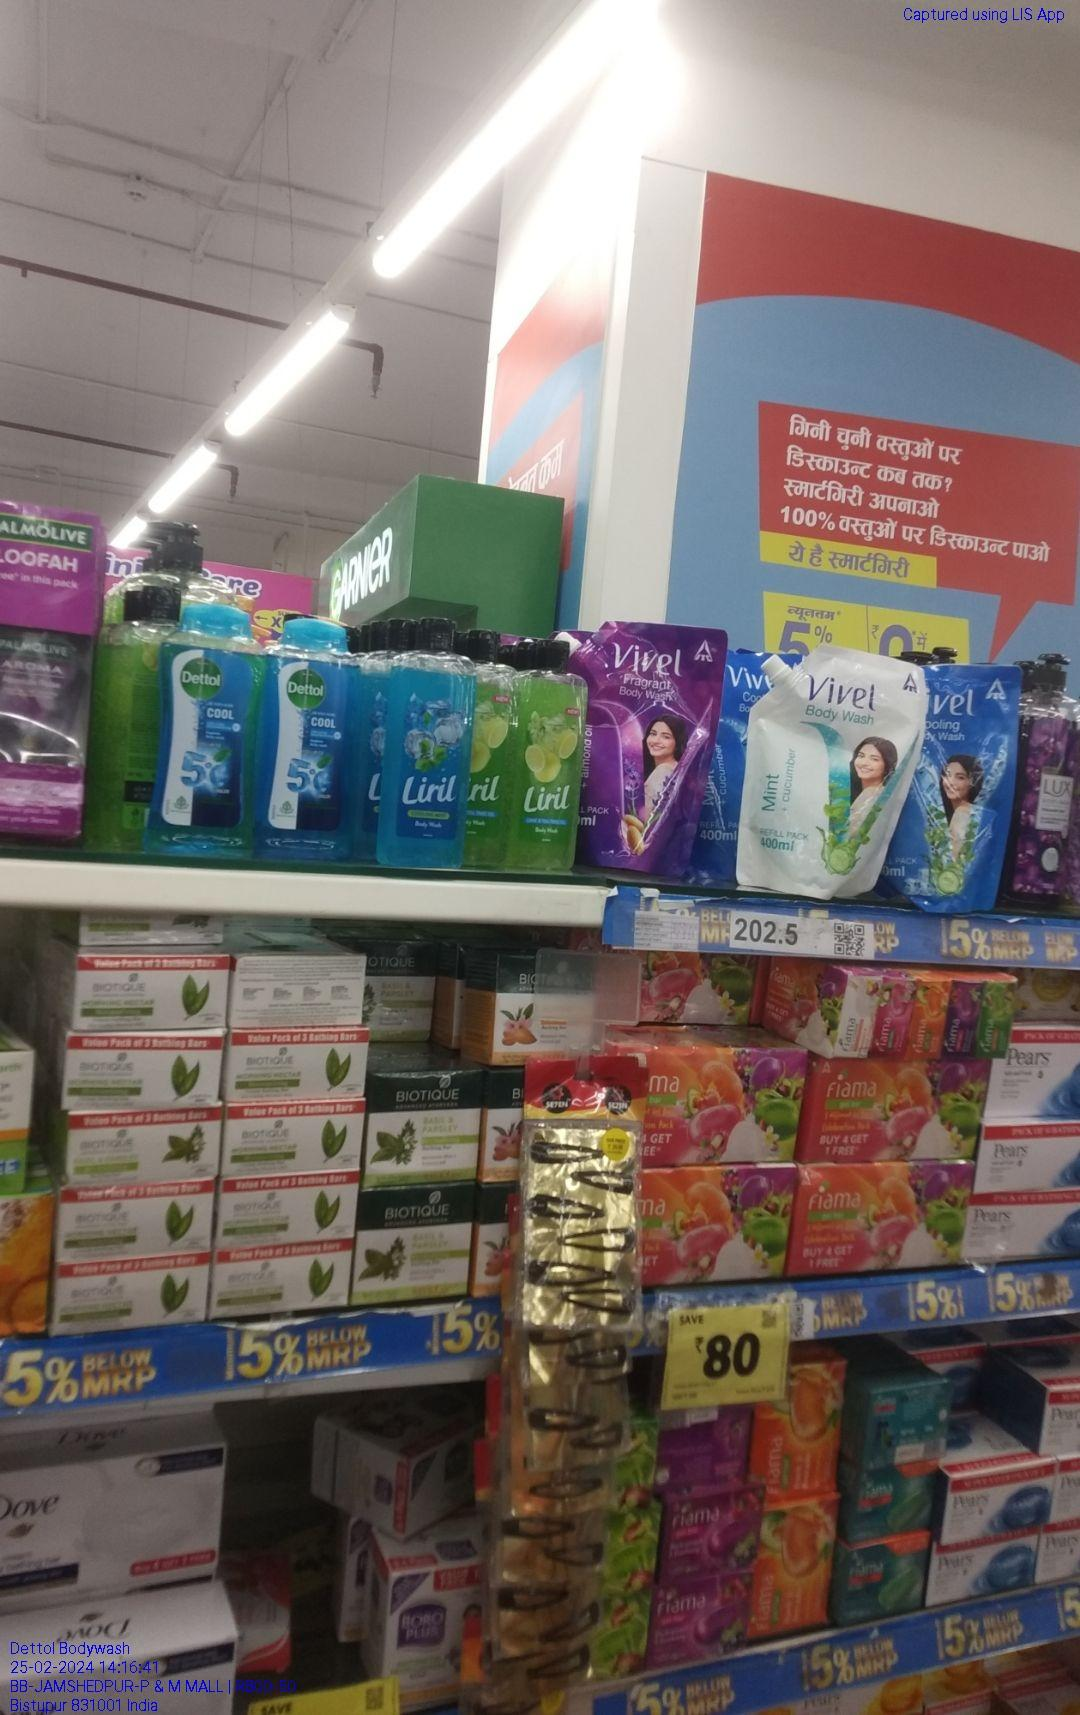Dettol_Bodywash_Cool: (163, 601, 256, 859), (271, 613, 352, 861)
Liril_Cooling_Mint_Body_Wash_250ML: (393, 613, 474, 867)
Liril_Lime_and_Tea_Tree_Oil_Body_Wash_250ML: (524, 640, 591, 867), (480, 627, 519, 873)
